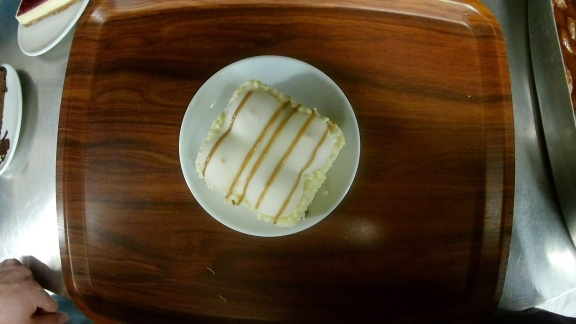beyazpasta: (179, 55, 362, 238)
